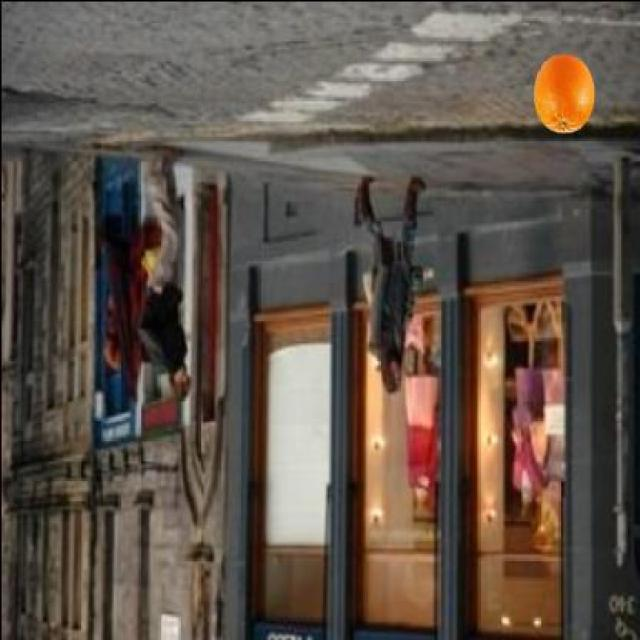Orange: (531, 51, 595, 134)
